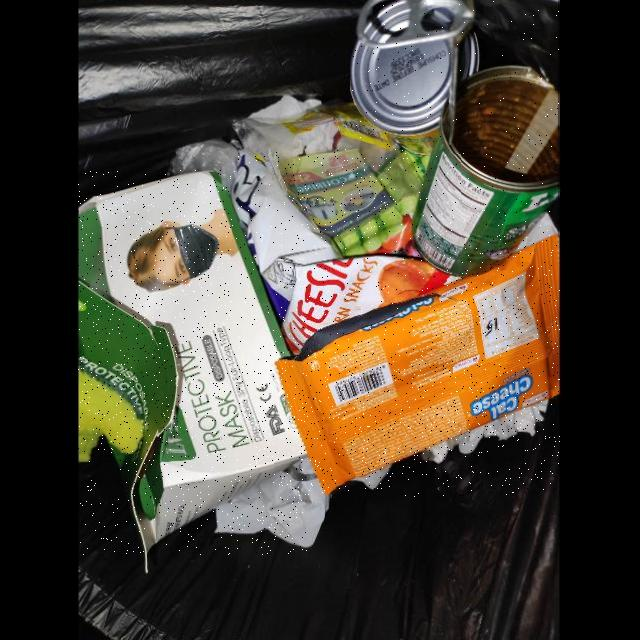metal: (350, 0, 559, 279)
paper: (79, 170, 307, 555)
wrapper: (275, 236, 560, 497), (232, 155, 461, 351), (275, 150, 396, 233)
